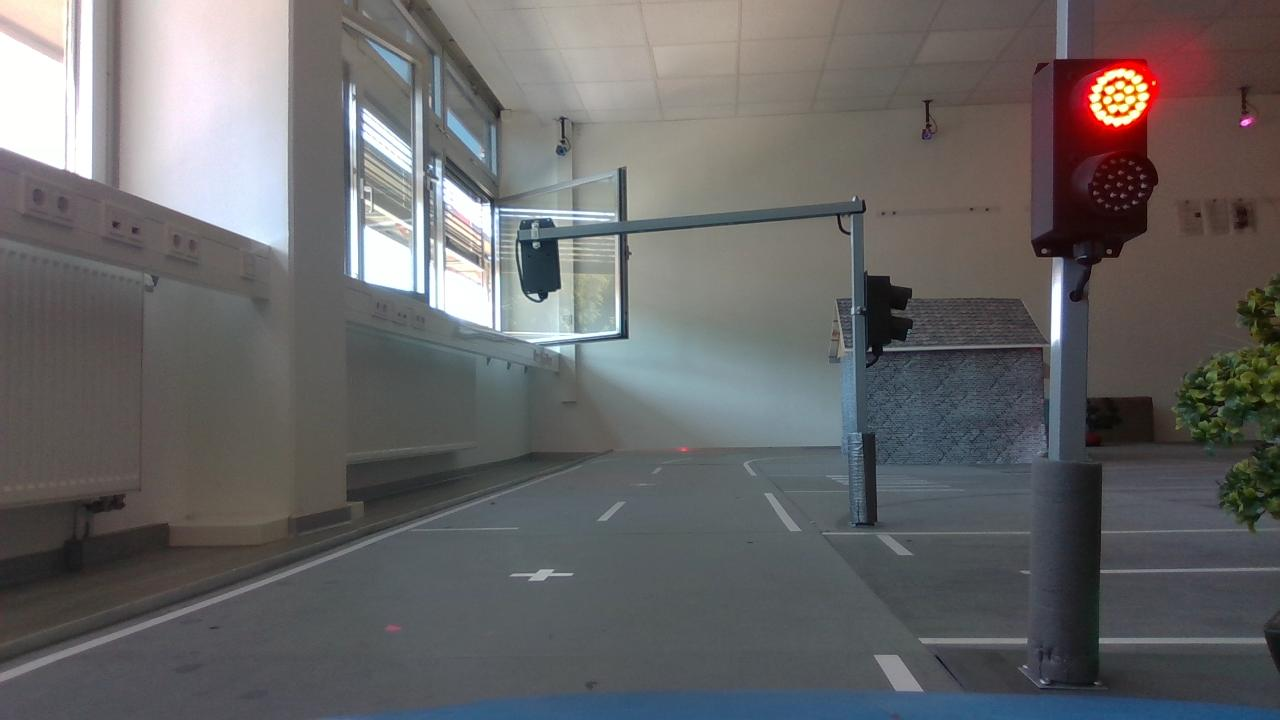traffic_light_red: (1003, 47, 1177, 275)
